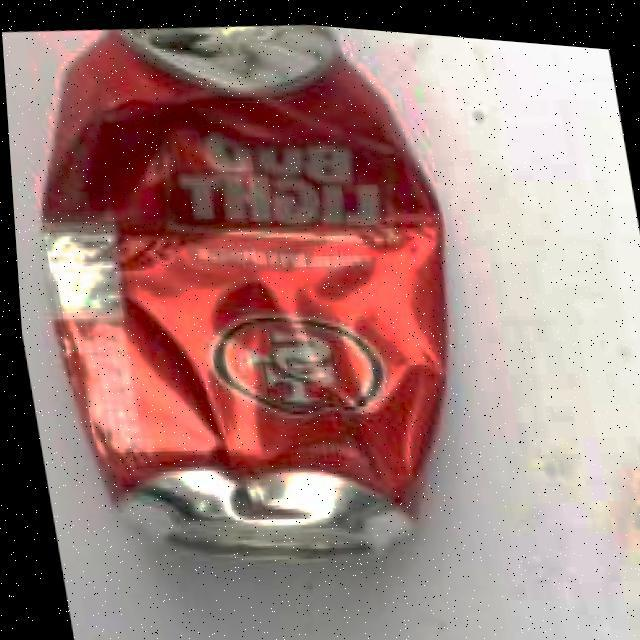Lata: (44, 29, 445, 552)
